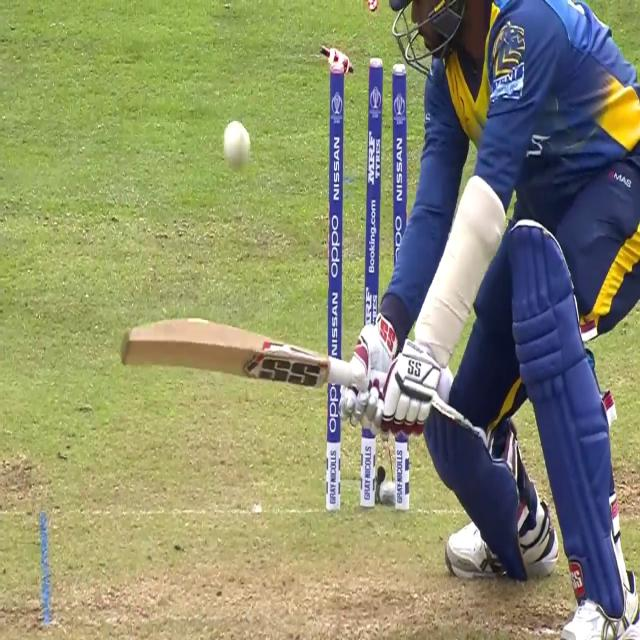ball: (220, 116, 252, 178)
